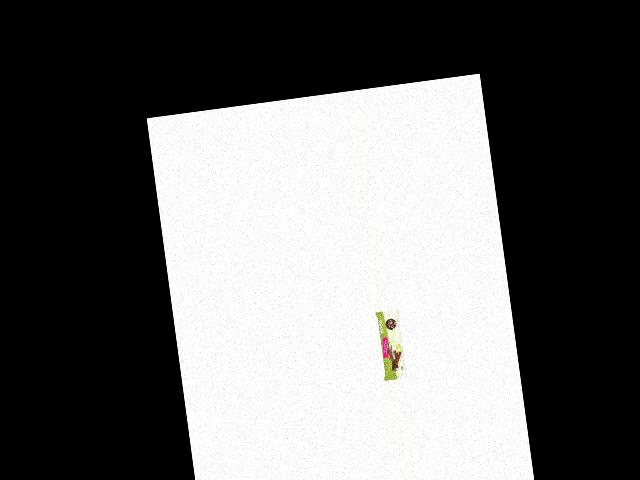chocolate: (372, 309, 410, 382)
